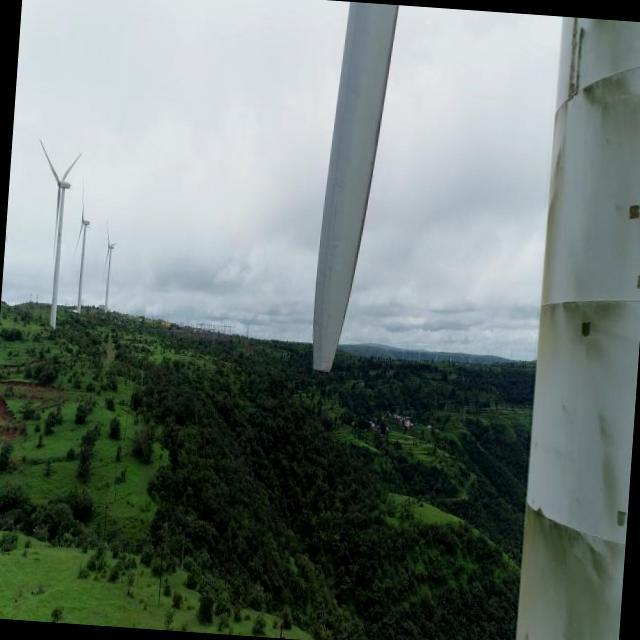Dirt: (515, 12, 640, 640)
